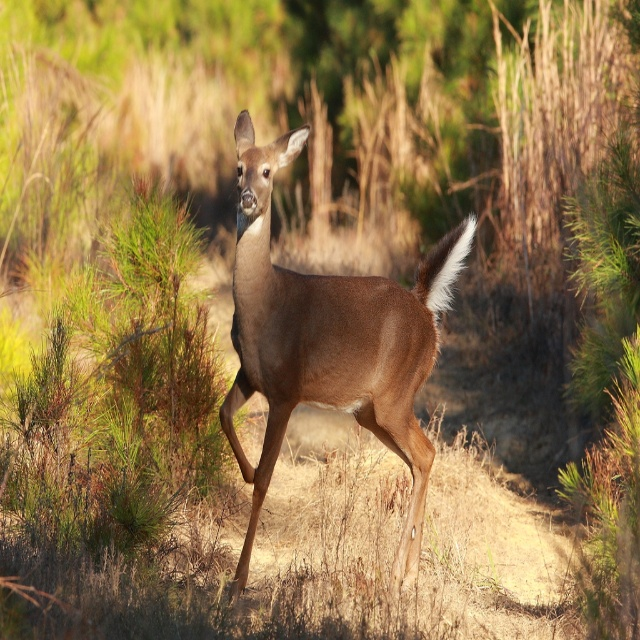Deer: (218, 109, 479, 606)
